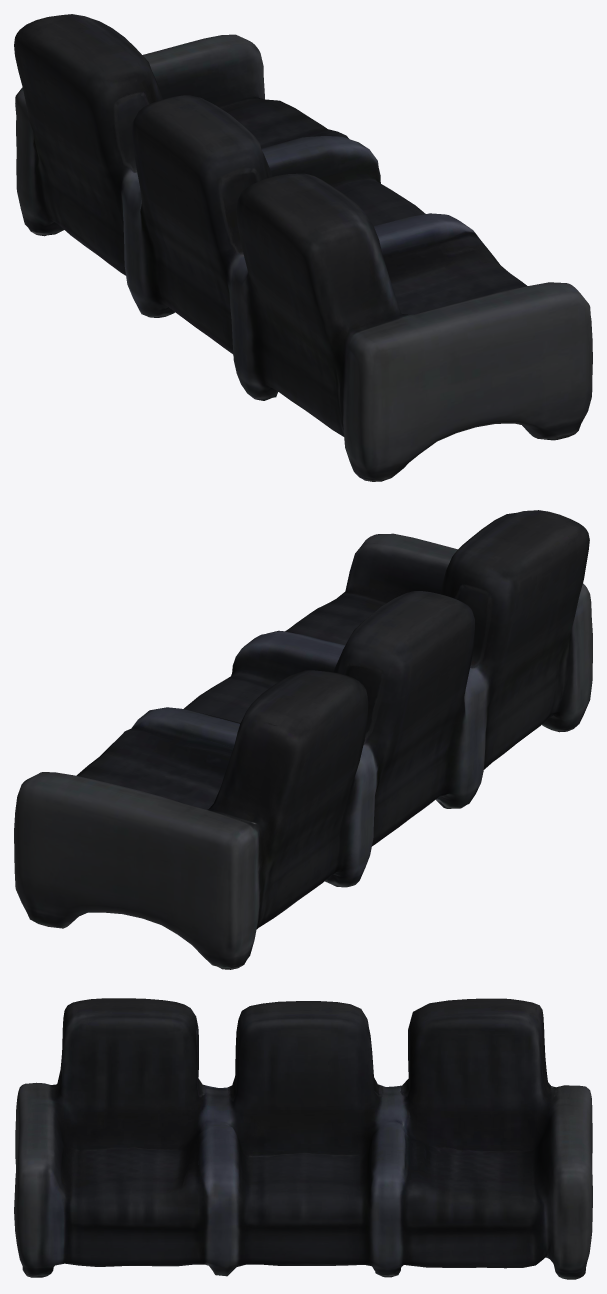
Rendered from sillon.obj.
The picture shows the model from 3 angles, top to bottom: view 1: azimuth 30°, elevation 25°; view 2: azimuth 150°, elevation 25°; view 3: azimuth 270°, elevation 25°; orthographic projection. The views are drawn at different scales.
Parts seen in each view (by area): view 1: ebbbc3d5b4_a_movie_theater_cou:Mesh; view 2: ebbbc3d5b4_a_movie_theater_cou:Mesh; view 3: ebbbc3d5b4_a_movie_theater_cou:Mesh.
Part boxes in pixels (<box>): ebbbc3d5b4_a_movie_theater_cou:Mesh: <box>14,14,592,481</box>; ebbbc3d5b4_a_movie_theater_cou:Mesh: <box>14,510,592,969</box>; ebbbc3d5b4_a_movie_theater_cou:Mesh: <box>14,998,592,1279</box>.
Size of the model in its own units: 1.45 by 1.25 by 3.4.
